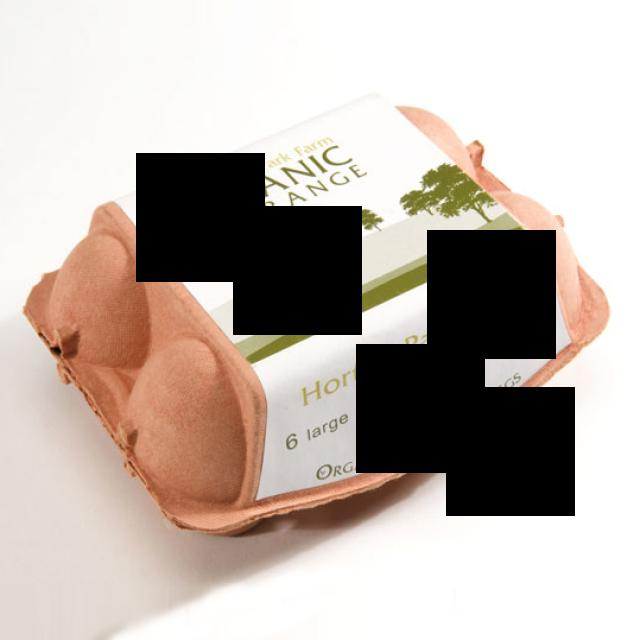egg carton: (24, 91, 612, 536)
